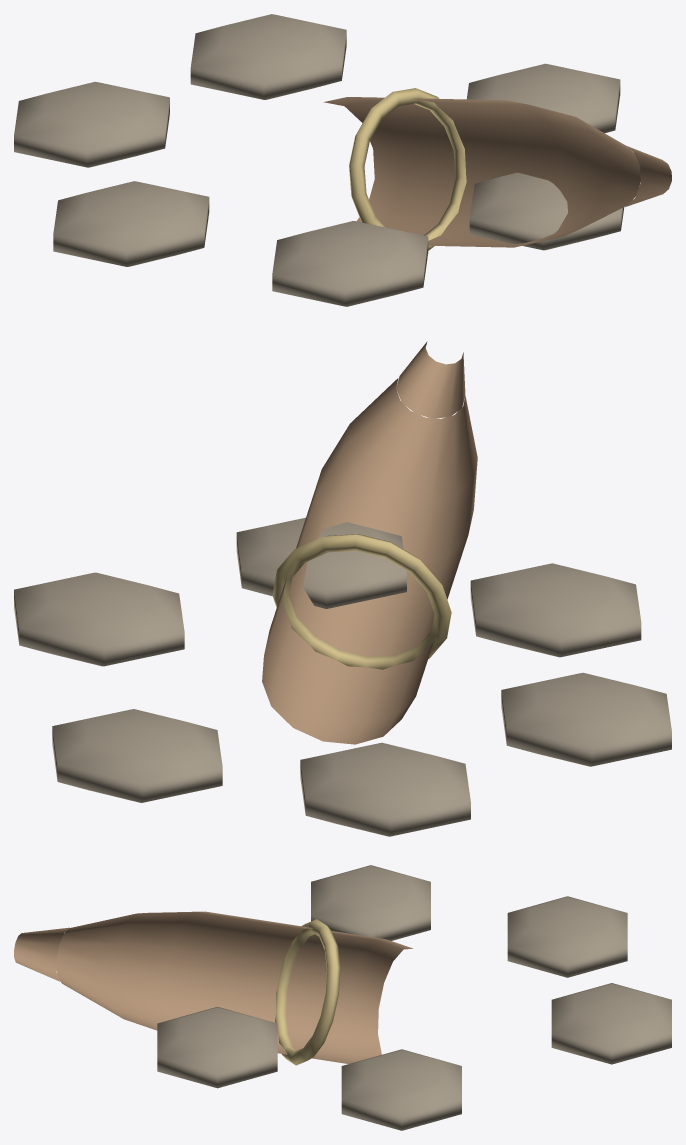
File: trench-line-1917-dud-shell-51423590__24091.glb
3 renders of one model, top to bottom at view 1: azimuth 30°, elevation 25°; view 2: azimuth 150°, elevation 25°; view 3: azimuth 270°, elevation 25°, orthographic. The views are drawn at different scales.
Visible parts, largest first — view 1: dud-shell; view 2: dud-shell; view 3: dud-shell.
Boxes of the visible parts, box(x1,y1,x2,y2) form: dud-shell: box(14, 14, 671, 306); dud-shell: box(14, 341, 671, 836); dud-shell: box(14, 865, 671, 1130).
Bounding box in the file's own units: 1.14 × 0.366 × 1.26.
